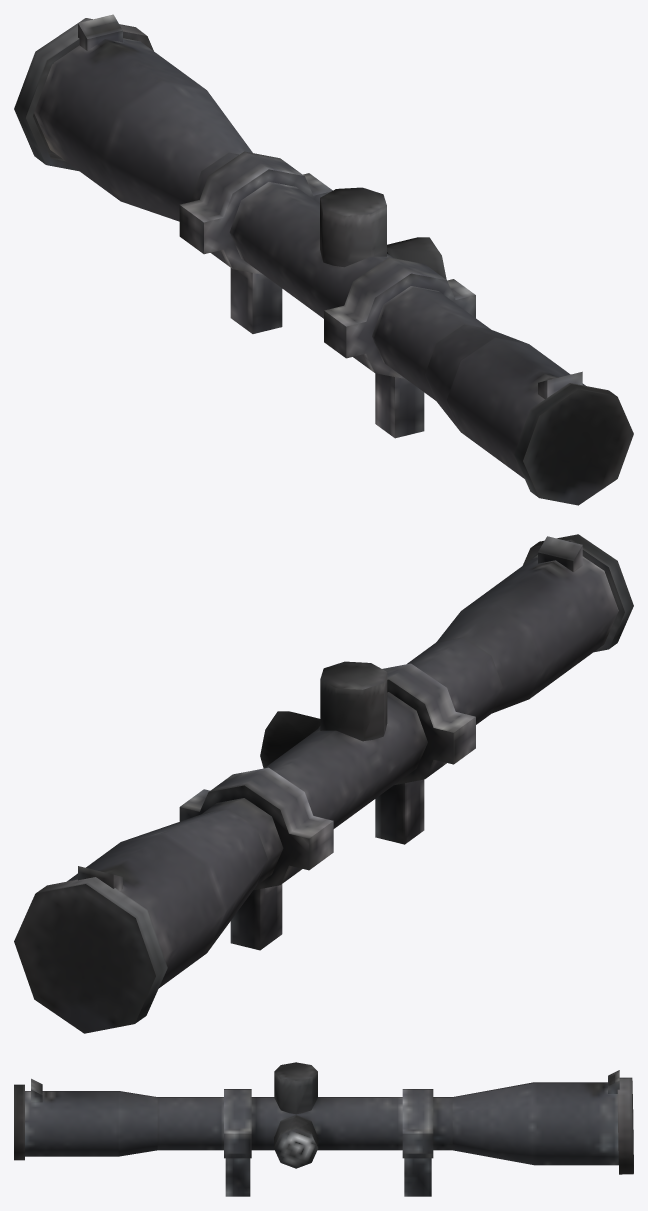
The model's file is 12xScope_wm.fbx.
3 views of the same model, one above another, from view 1: azimuth 30°, elevation 25°; view 2: azimuth 150°, elevation 25°; view 3: azimuth 270°, elevation 25° (orthographic). The views are drawn at different scales.
Visible parts, largest first — view 1: 12xScope_World; view 2: 12xScope_World; view 3: 12xScope_World.
Part boxes in pixels (bbox=[...]): 12xScope_World: bbox=[14, 14, 633, 505]; 12xScope_World: bbox=[14, 534, 633, 1033]; 12xScope_World: bbox=[14, 1062, 633, 1196].
Size of the model in its own units: 0.0347 by 0.0278 by 0.1616.
